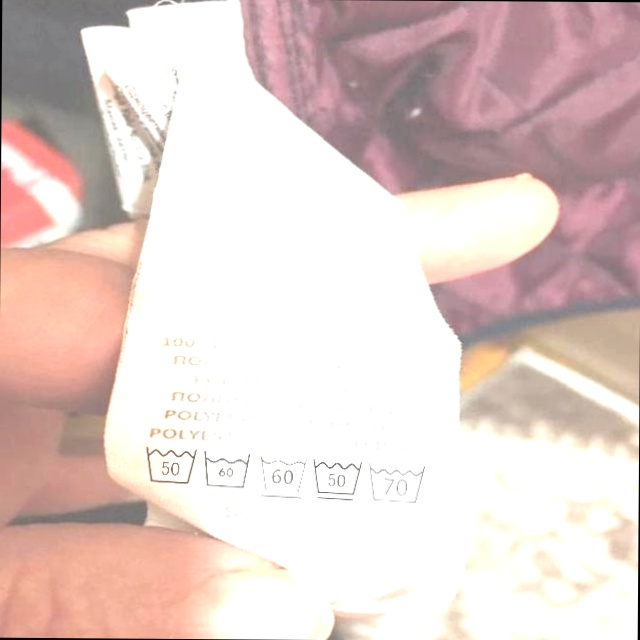50C: (139, 439, 201, 489), (310, 455, 366, 504)
60C: (258, 452, 311, 500), (201, 447, 255, 494)
70C: (368, 460, 432, 506)
